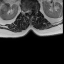CCS_normal: (28, 8, 30, 16)
LFS_severe_stenosis: (32, 8, 34, 14)
LLS_normal: (30, 8, 32, 14)
RFS_normal: (25, 9, 26, 14)
RLS_normal: (26, 8, 28, 14)
